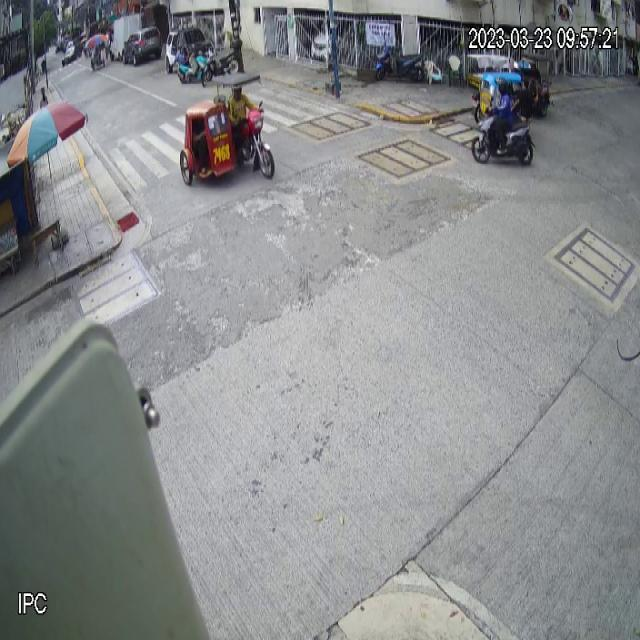Motorcycle: (472, 104, 536, 166)
Tricycle: (178, 71, 276, 191)
